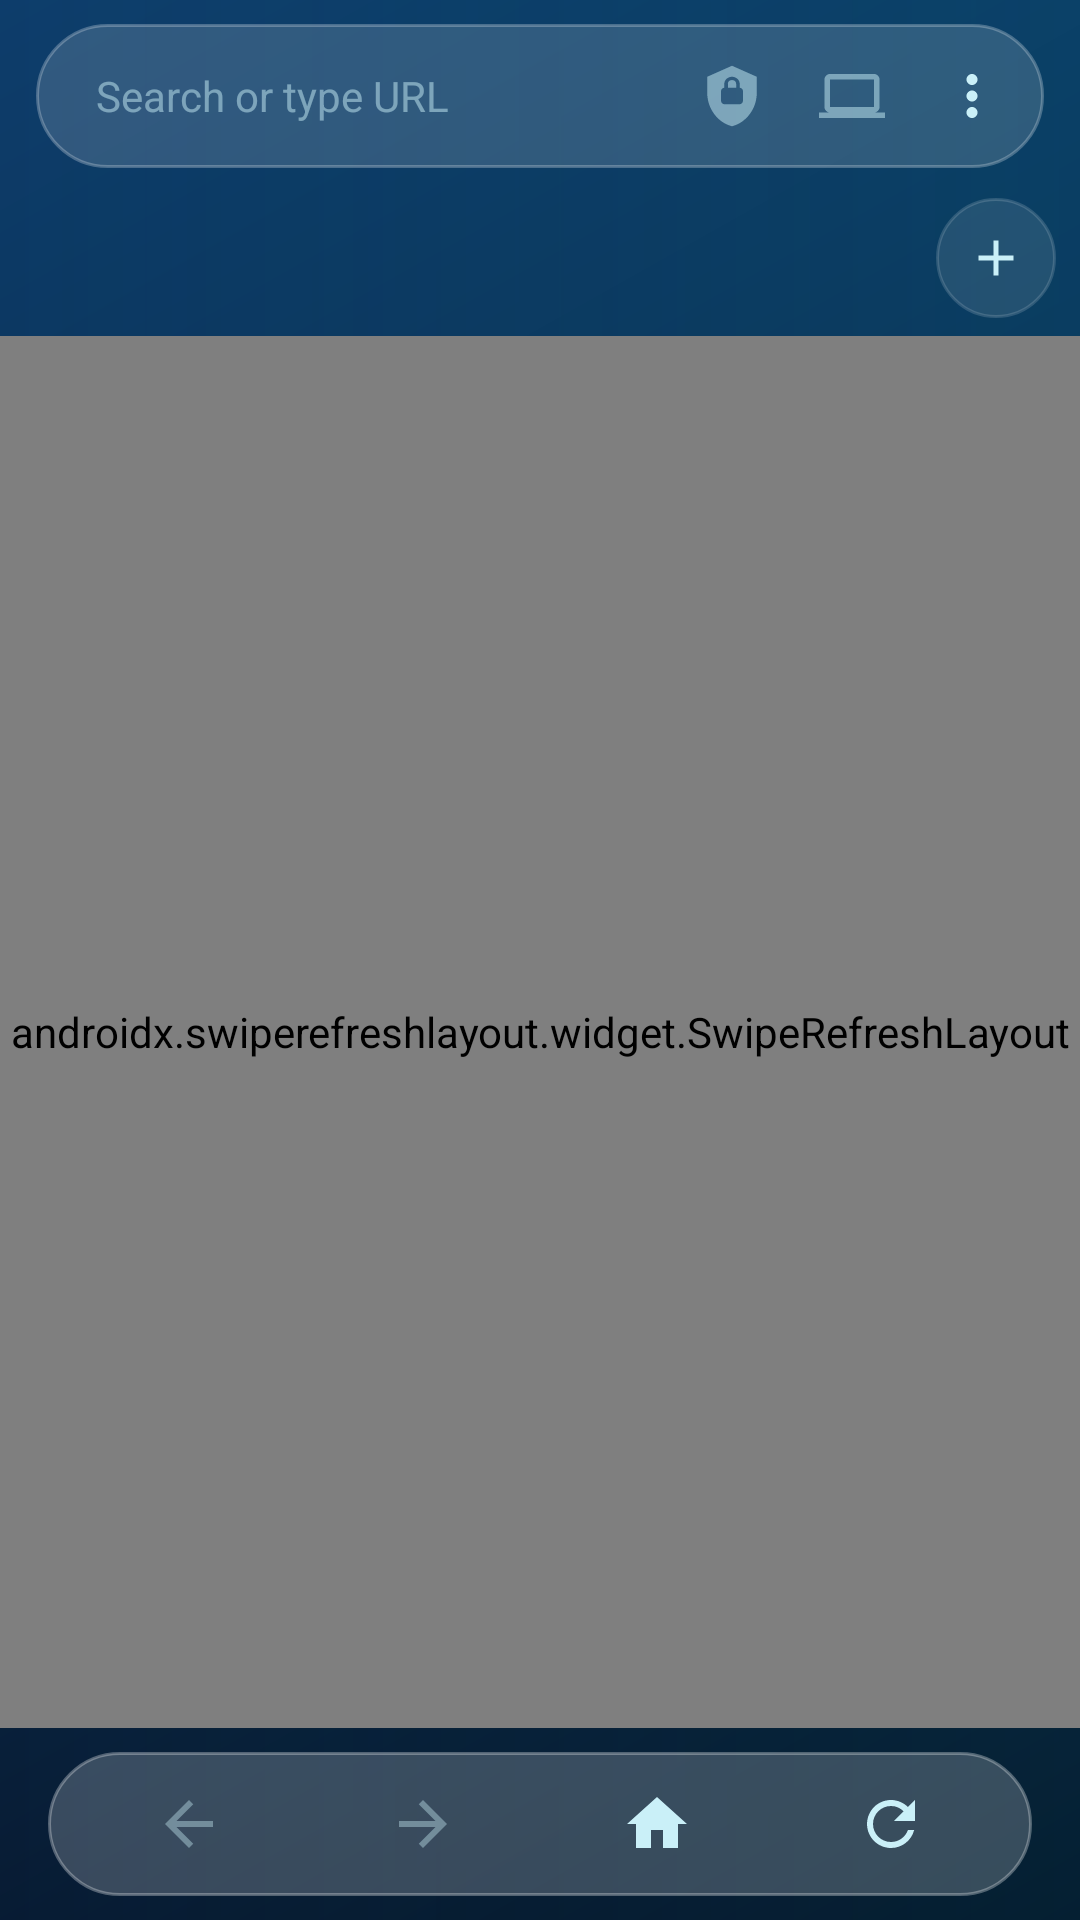

Named icons in this screenshot (1080x1920) and their centers, [x,y]:
Back: [189,1824]
Desktop Mode: [852,96]
Forward: [423,1824]
Home: [657,1824]
Incognito: [732,96]
New Tab: [996,258]
